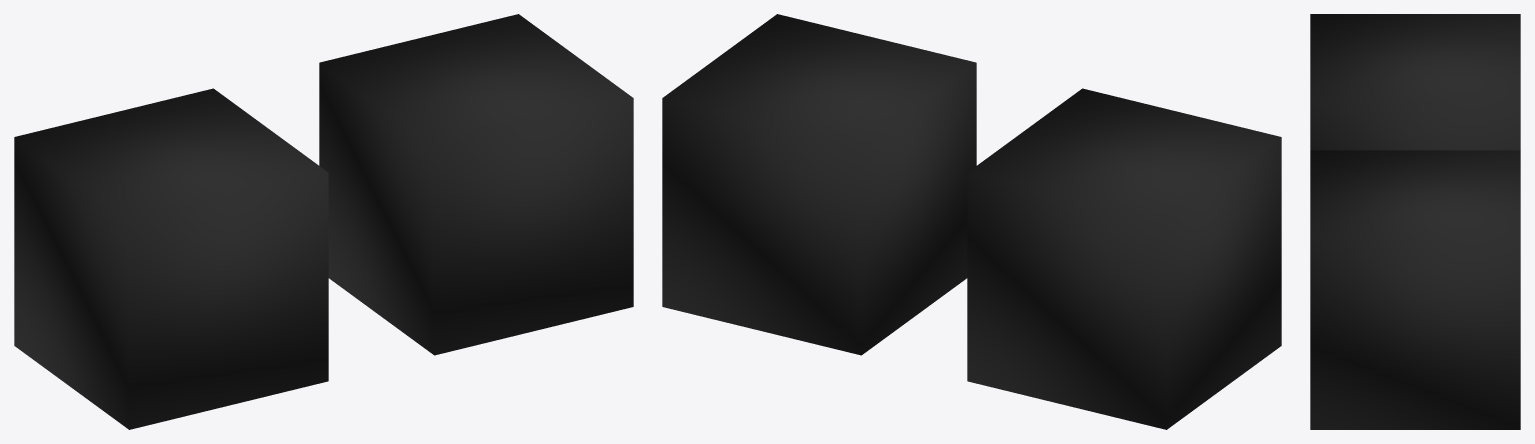
Rendered from SideEnemyEye.obj.
3 renders of one model, left to right at view 1: azimuth 30°, elevation 25°; view 2: azimuth 150°, elevation 25°; view 3: azimuth 270°, elevation 25°, orthographic. The views are drawn at different scales.
Visible parts, largest first — view 1: 立方体.002; view 2: 立方体.002; view 3: 立方体.002.
Boxes of the visible parts, x1,y1,x2,y2 form: 立方体.002: (14, 14, 633, 429); 立方体.002: (662, 14, 1281, 429); 立方体.002: (1310, 14, 1520, 429).
Size of the model in its own units: 3.24 by 1.28 by 1.28.
1 material, 1 textured.
